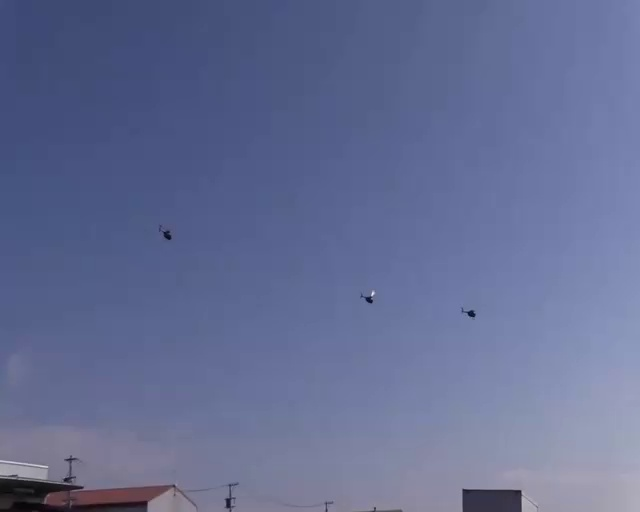HELICOPTER: (158, 224, 172, 240)
